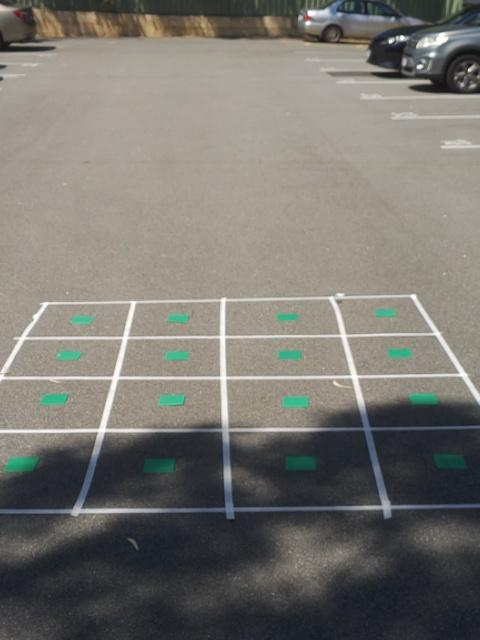weed: (142, 457, 175, 476), (434, 453, 465, 473), (3, 456, 41, 472), (284, 455, 318, 471), (409, 391, 436, 408), (157, 393, 186, 408), (282, 393, 309, 408), (39, 393, 69, 405), (387, 346, 412, 360), (162, 350, 191, 361), (56, 350, 84, 361), (276, 349, 303, 360), (71, 313, 95, 325), (276, 310, 299, 322), (166, 313, 191, 323), (372, 307, 394, 318)
